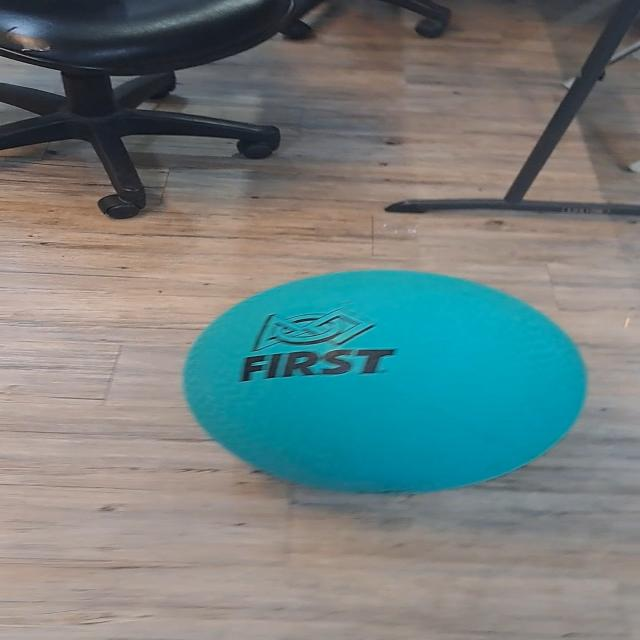ALGAE: (178, 267, 588, 496)
